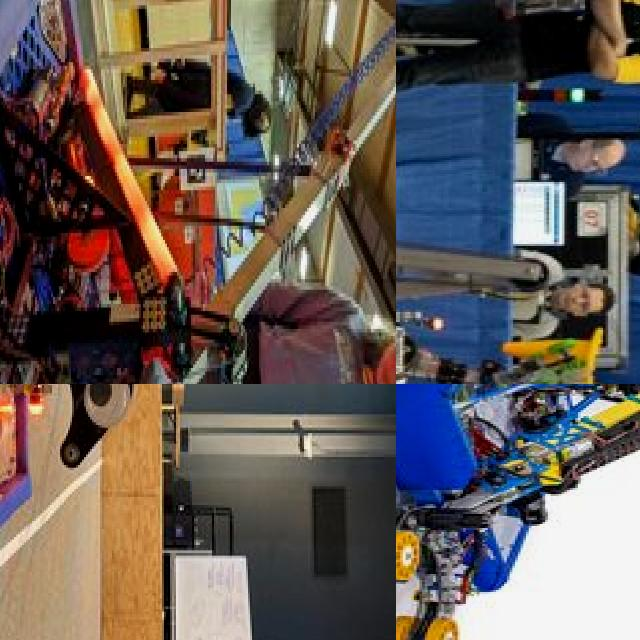FRC-Robots: (0, 0, 396, 384), (0, 384, 395, 637), (396, 384, 640, 640), (396, 113, 581, 384)
